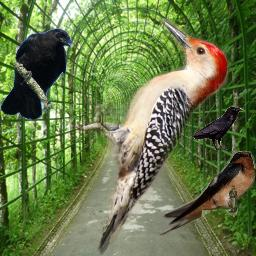Crow: (0, 28, 75, 121), (189, 105, 244, 150)
Swallow: (152, 151, 255, 235)
Woodpecker: (73, 18, 232, 255)
